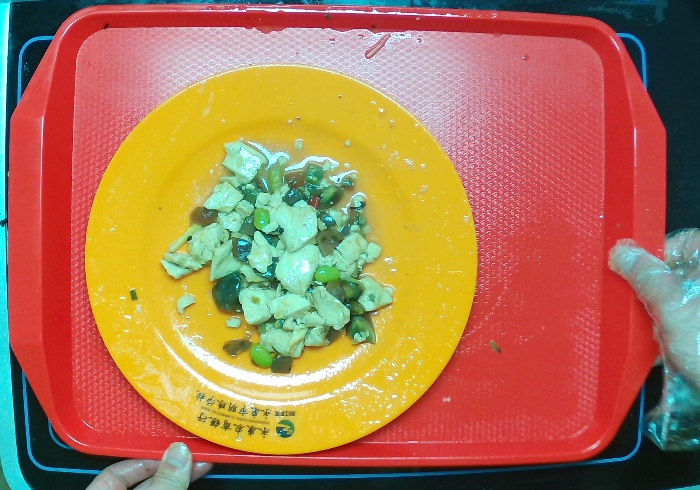YKMZ-Ju_Se_Mian_Pan: (82, 60, 482, 458)
